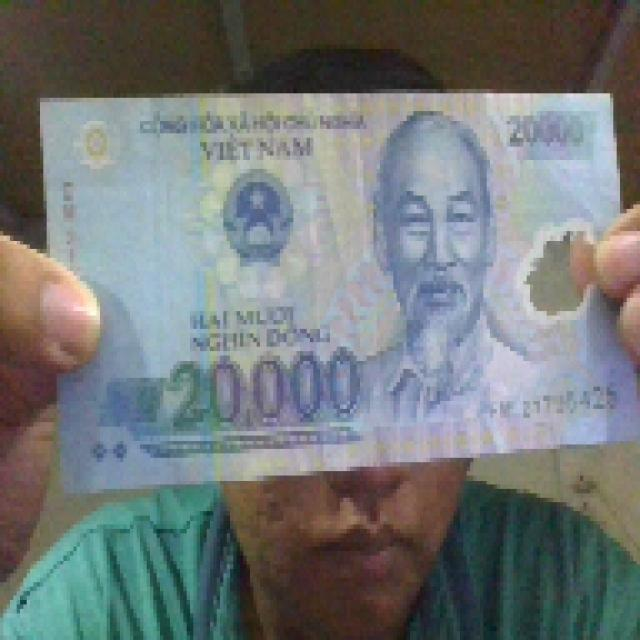20 000 VND: (33, 84, 637, 493)
